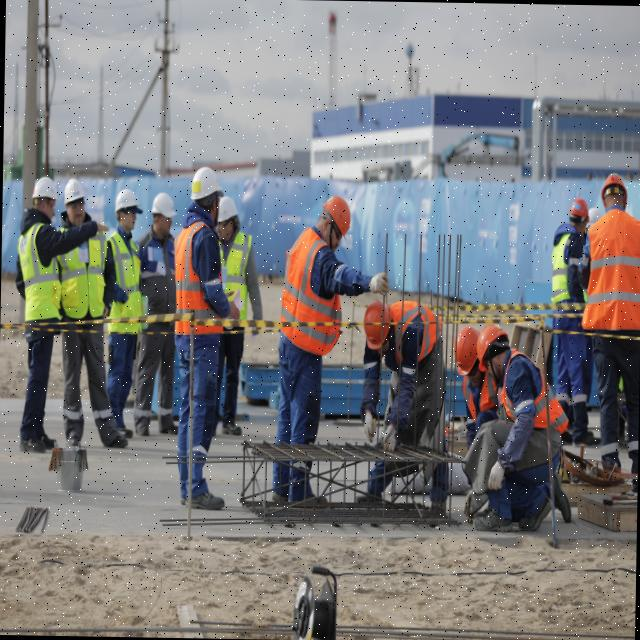Helmet: (320, 197, 352, 248), (363, 302, 393, 354), (477, 324, 508, 372), (454, 327, 481, 379), (191, 167, 224, 207), (32, 177, 59, 209), (219, 196, 244, 228), (65, 176, 88, 210), (115, 190, 142, 217), (153, 194, 179, 222), (601, 174, 628, 200), (570, 199, 590, 220)
Jacket: (582, 216, 640, 337), (285, 240, 340, 339), (178, 221, 216, 335), (495, 365, 552, 440), (24, 217, 57, 321), (109, 233, 144, 331), (60, 239, 105, 315), (553, 235, 581, 315), (396, 309, 440, 356), (226, 237, 252, 311)
NoJacket: (148, 227, 176, 330)
